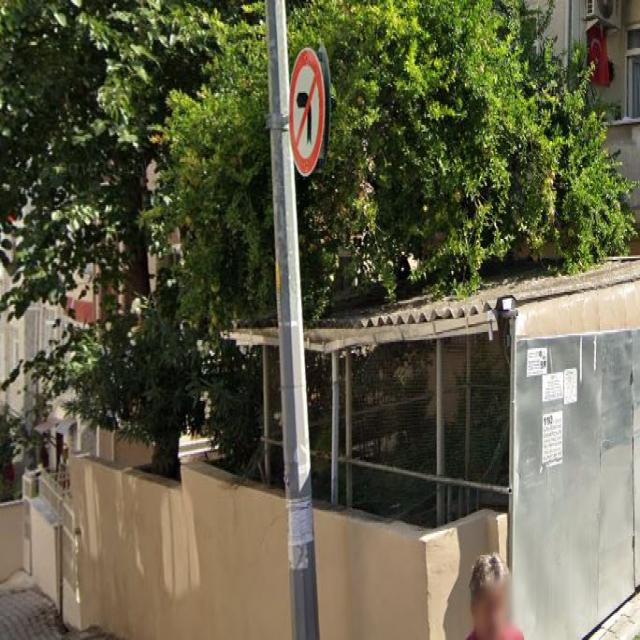soladonulmez: (290, 46, 323, 176)
